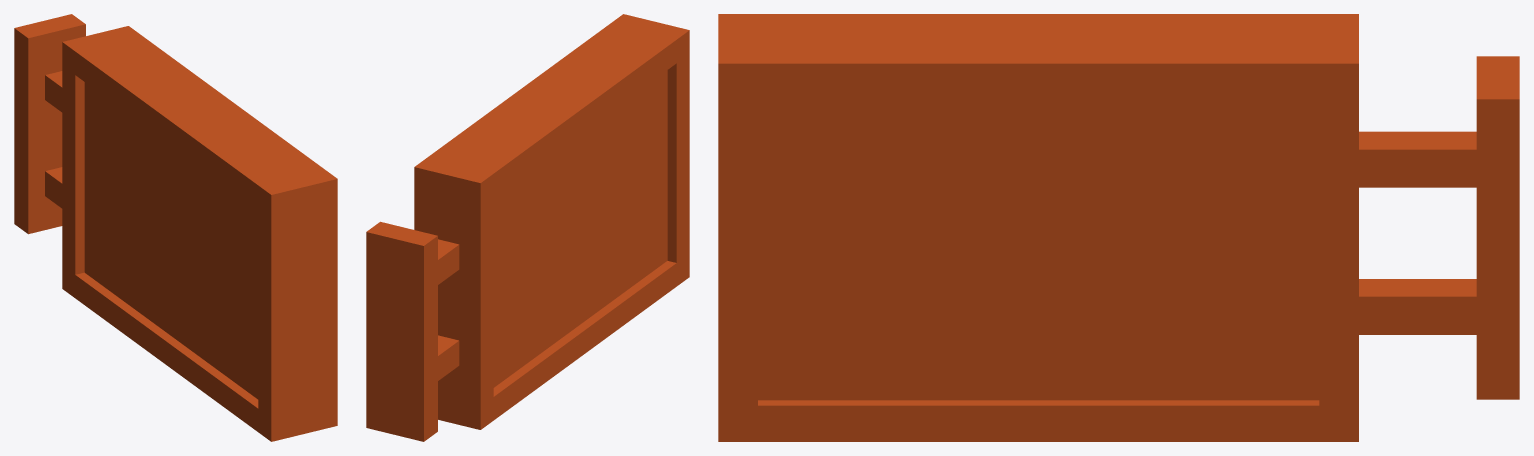
Rendered from SM_street_sign.fbx.
3 renders of one model, left to right at view 1: azimuth 30°, elevation 25°; view 2: azimuth 150°, elevation 25°; view 3: azimuth 270°, elevation 25°, orthographic. The views are drawn at different scales.
Parts seen in each view (by area): view 1: street_sign; view 2: street_sign; view 3: street_sign.
Boxes of the visible parts, left/top/right/bottom form: street_sign: left=14, top=14, right=337, bottom=441; street_sign: left=366, top=14, right=689, bottom=441; street_sign: left=718, top=14, right=1519, bottom=441.
Size of the model in its own units: 12.68 by 45.14 by 86.65.
